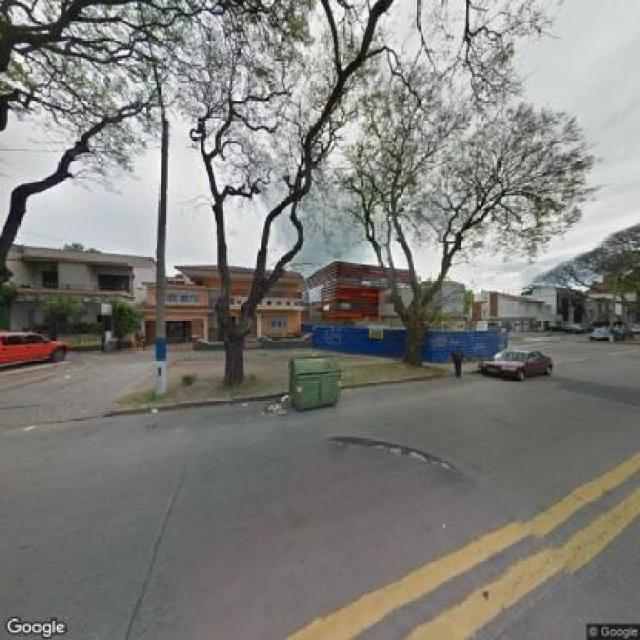garbage: (249, 385, 299, 421)
